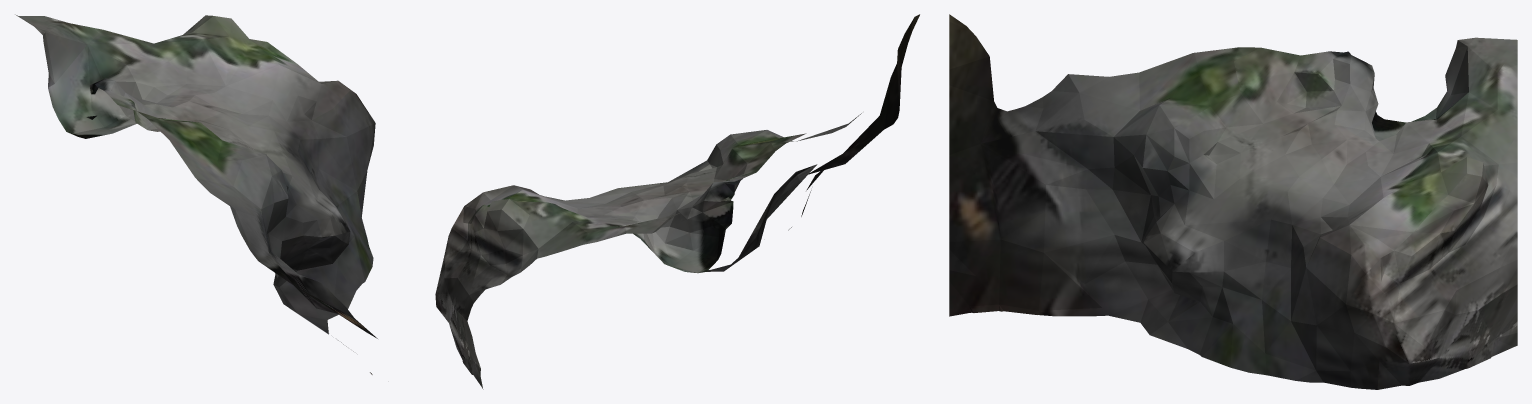
3 renders of one model, left to right at view 1: azimuth 30°, elevation 25°; view 2: azimuth 150°, elevation 25°; view 3: azimuth 270°, elevation 25°, orthographic. The views are drawn at different scales.
Size of the model in its own units: 0.502 by 0.3918 by 0.8374.
Materials: 2 (2 with a texture image).
